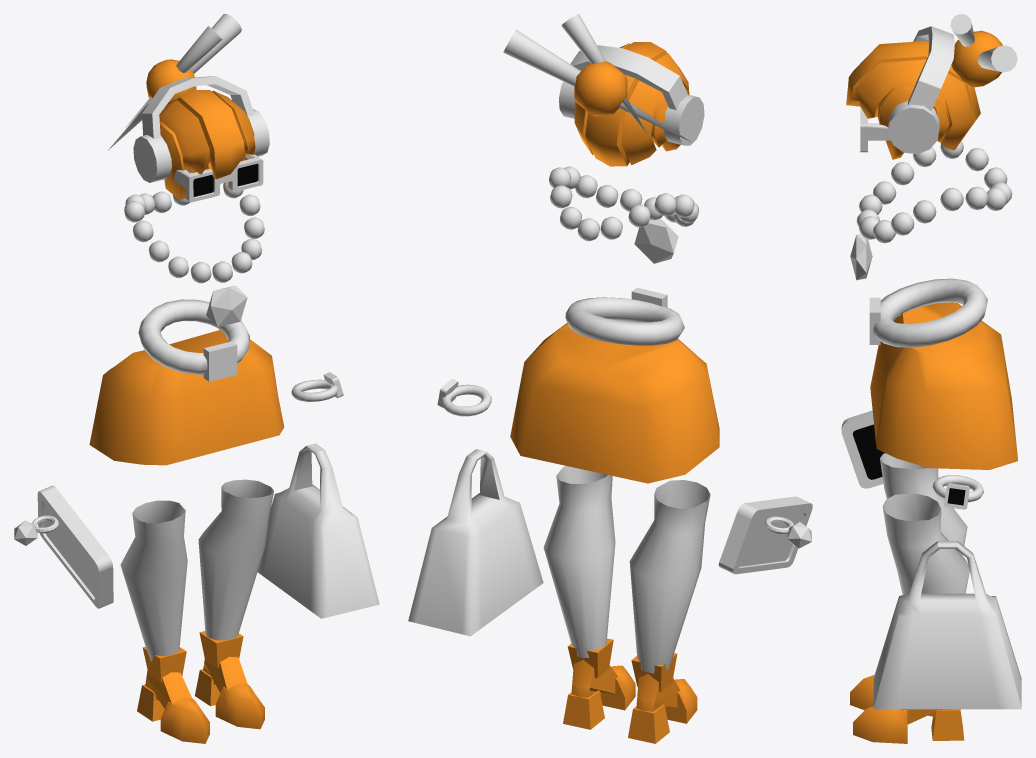
File: Robot_girl_02(parts).fbx
The picture shows the model from 3 angles, left to right: view 1: azimuth 30°, elevation 25°; view 2: azimuth 150°, elevation 25°; view 3: azimuth 270°, elevation 25°; orthographic projection. The views are drawn at different scales.
Visible parts, largest first — view 1: Cube, Sumka, Chulok1, Chulok2, BaseHead.006, Iphone, Necklase, BaseFoot.R.001, BaseFoot.L.001, HeadEars, Belt1, SunGlasses (+6 smaller); view 2: Cube, Sumka, Chulok2, Chulok1, BaseHead.006, Necklase, Iphone, Belt1, HeadEars, BaseFoot.L.001, BaseFoot.R.001, HairHolders1 (+4 smaller); view 3: Cube, Sumka, BaseHead.006, Chulok1, Necklase, Belt1, HeadEars, BaseFoot.L.001, Chulok2, Iphone, Timer, HairHolders1 (+5 smaller).
Boxes of the visible parts, <box> form: Cube: <box>89,330,284,465</box>; Sumka: <box>257,443,379,618</box>; Chulok1: <box>198,479,273,640</box>; Chulok2: <box>120,500,187,661</box>; BaseHead.006: <box>146,59,255,200</box>; Iphone: <box>37,485,113,608</box>; Necklase: <box>124,182,264,283</box>; BaseFoot.R.001: <box>137,646,209,743</box>; BaseFoot.L.001: <box>195,631,264,729</box>; HeadEars: <box>133,76,269,182</box>; Belt1: <box>138,299,250,374</box>; SunGlasses: <box>174,154,263,202</box>; Cube: <box>510,323,719,483</box>; Sumka: <box>408,449,543,636</box>; Chulok2: <box>629,480,710,673</box>; Chulok1: <box>543,465,615,657</box>; BaseHead.006: <box>574,42,689,166</box>; Necklase: <box>549,166,699,241</box>; Iphone: <box>718,496,812,574</box>; Belt1: <box>565,297,684,345</box>; HeadEars: <box>559,45,704,145</box>; BaseFoot.L.001: <box>563,638,635,729</box>; BaseFoot.R.001: <box>628,653,697,743</box>; HairHolders1: <box>503,29,690,141</box>; Cube: <box>870,302,1017,469</box>; Sumka: <box>873,541,1021,709</box>; BaseHead.006: <box>846,30,1002,159</box>; Chulok1: <box>882,493,969,594</box>; Necklase: <box>856,141,1012,243</box>; Belt1: <box>872,278,987,347</box>; HeadEars: <box>888,26,954,154</box>; BaseFoot.L.001: <box>853,706,964,743</box>; Chulok2: <box>880,453,967,555</box>; Iphone: <box>841,410,884,488</box>; Timer: <box>933,475,983,509</box>; HairHolders1: <box>977,45,1017,72</box>.
Bounding box in the file's own units: 133 × 251 × 56.91.
